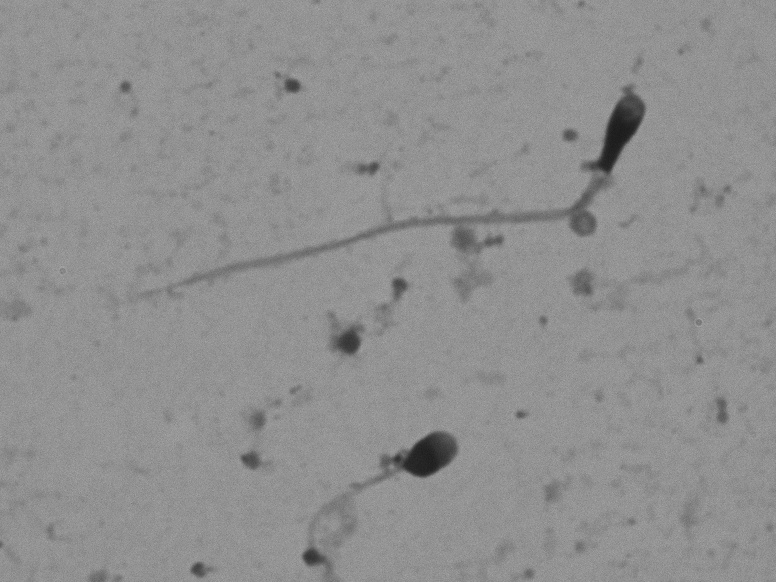Abnormal: (97, 63, 700, 309), (269, 415, 488, 570)
